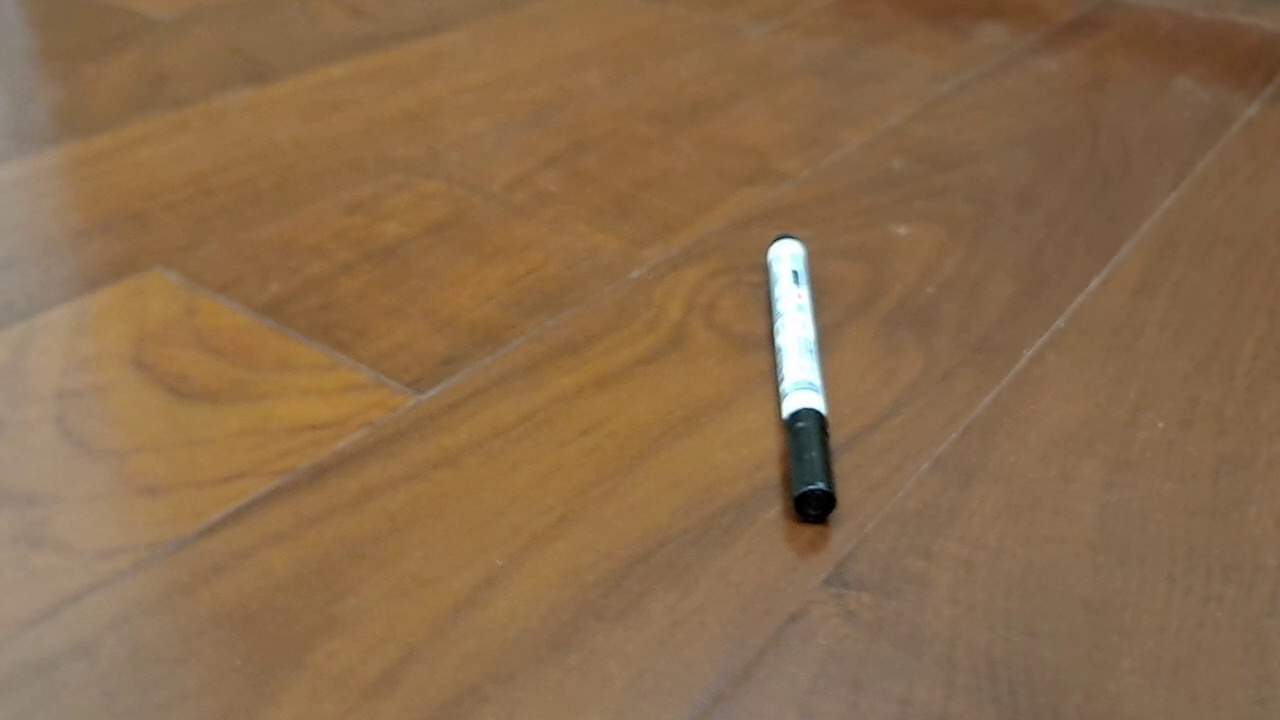pen: (765, 234, 838, 525)
